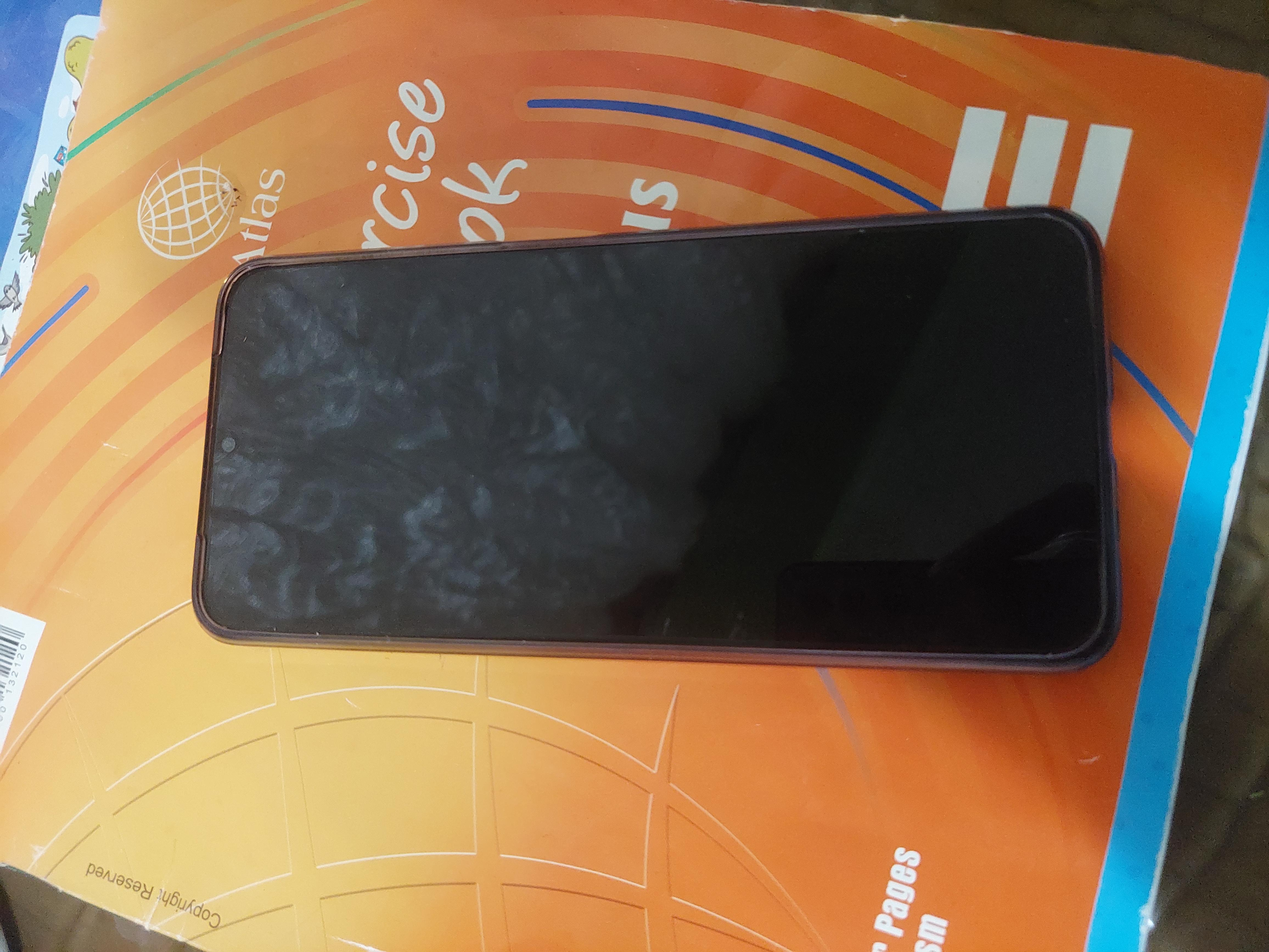smartphone: (192, 203, 1122, 675)
